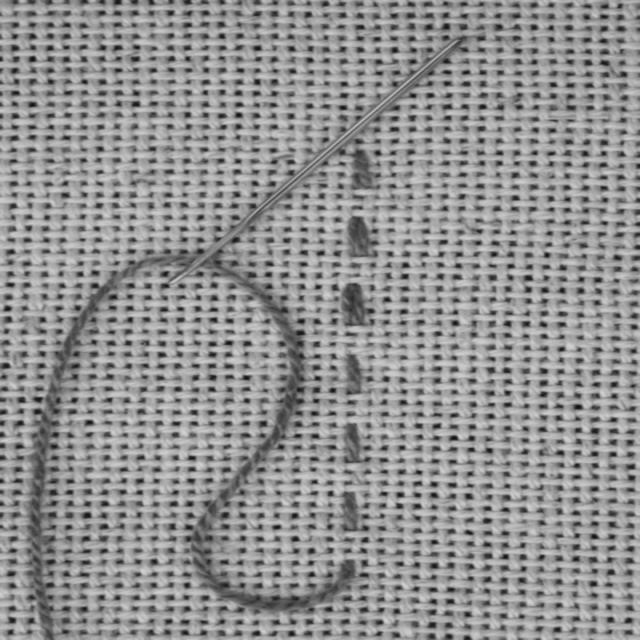stitch: (340, 281, 366, 329), (346, 212, 371, 260), (350, 145, 374, 194), (342, 491, 360, 532), (343, 425, 362, 463), (345, 353, 362, 394)
